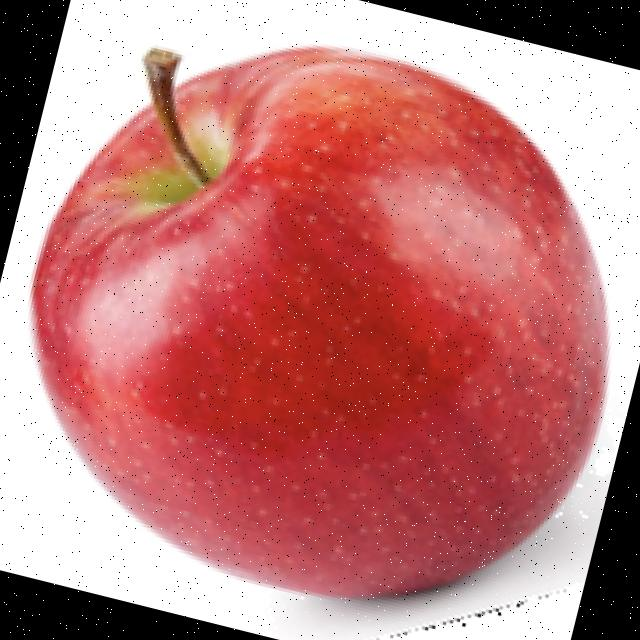apple: (24, 39, 616, 640)
